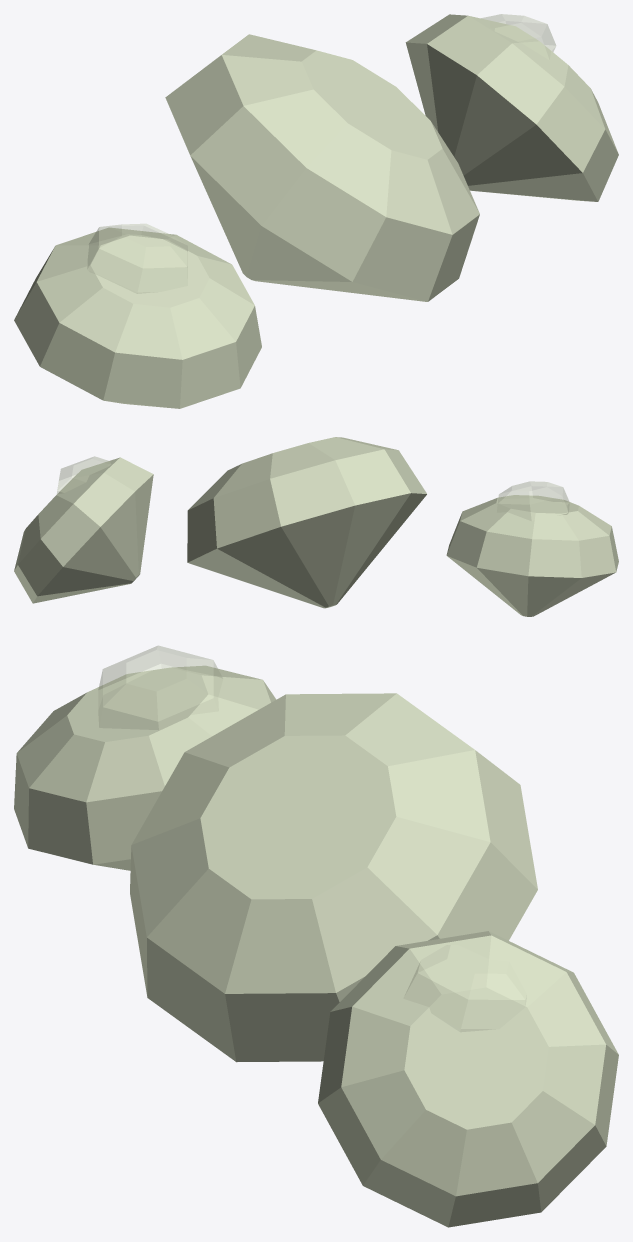
3 views of the same model, one above another, from view 1: azimuth 30°, elevation 25°; view 2: azimuth 150°, elevation 25°; view 3: azimuth 270°, elevation 25° (orthographic). The views are drawn at different scales.
Parts seen in each view (by area): view 1: TI034 / individually faceted stone 1, TI034 / individually faceted stone 0, TI034 / individually faceted stone 2, TI034 / inclusion colour facet, TI034 / inclusion colour facet.002; view 2: TI034 / individually faceted stone 1, TI034 / individually faceted stone 0, TI034 / individually faceted stone 2, TI034 / inclusion colour facet, TI034 / inclusion colour facet.002; view 3: TI034 / individually faceted stone 1, TI034 / individually faceted stone 2, TI034 / individually faceted stone 0, TI034 / inclusion colour facet, TI034 / inclusion colour facet.002.
Part boxes in pixels (left/top/right/bottom): TI034 / individually faceted stone 1: left=165, top=34, right=479, bottom=301; TI034 / individually faceted stone 0: left=14, top=227, right=261, bottom=408; TI034 / individually faceted stone 2: left=405, top=14, right=618, bottom=201; TI034 / inclusion colour facet: left=87, top=223, right=187, bottom=293; TI034 / inclusion colour facet.002: left=481, top=14, right=556, bottom=59; TI034 / individually faceted stone 1: left=187, top=437, right=426, bottom=608; TI034 / individually faceted stone 0: left=446, top=495, right=618, bottom=616; TI034 / individually faceted stone 2: left=14, top=457, right=153, bottom=603; TI034 / inclusion colour facet: left=497, top=481, right=569, bottom=520; TI034 / inclusion colour facet.002: left=57, top=456, right=110, bottom=493; TI034 / individually faceted stone 1: left=130, top=693, right=537, bottom=1062; TI034 / individually faceted stone 2: left=318, top=931, right=618, bottom=1227; TI034 / individually faceted stone 0: left=14, top=665, right=276, bottom=870; TI034 / inclusion colour facet: left=98, top=645, right=222, bottom=729; TI034 / inclusion colour facet.002: left=404, top=945, right=526, bottom=1031.
Size of the model in its own units: 2.54 by 0.8889 by 1.57.
